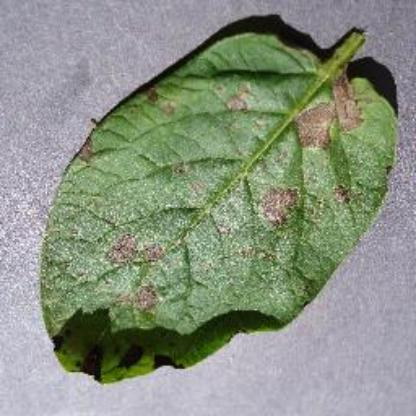Early-Blight: (40, 19, 408, 383)
